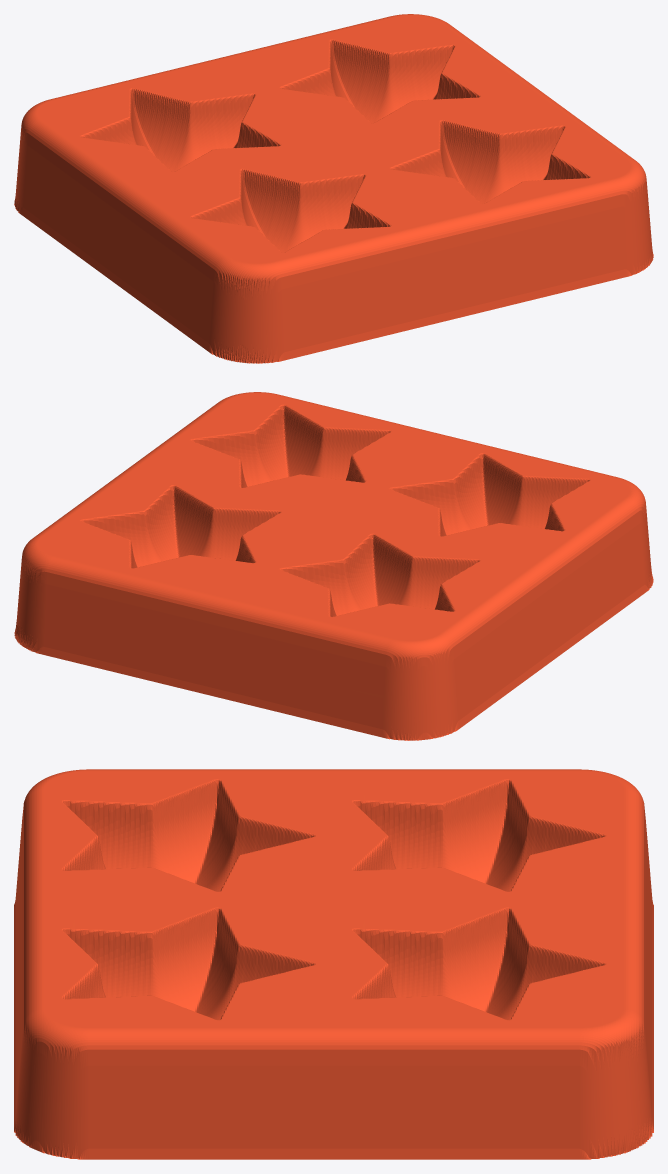
File: mold.glb
3 views of the same model, one above another, from view 1: azimuth 30°, elevation 25°; view 2: azimuth 150°, elevation 25°; view 3: azimuth 270°, elevation 25° (orthographic). The views are drawn at different scales.
Visible parts, largest first — view 1: geometry_0; view 2: geometry_0; view 3: geometry_0.
Part boxes in pixels (x1=…): geometry_0: x1=14, y1=14, x2=653, y2=363; geometry_0: x1=14, y1=392, x2=653, y2=740; geometry_0: x1=14, y1=769, x2=653, y2=1159.
Bounding box in the file's own units: 0.0808 × 0.0159 × 0.0776.
